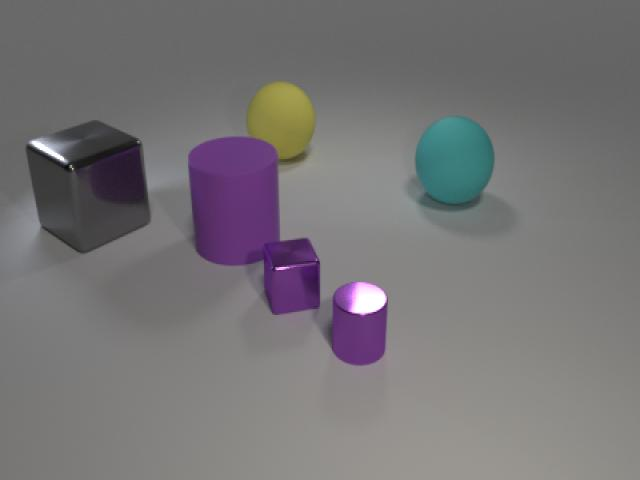cylinder: (184, 132, 286, 271), (327, 276, 394, 370)
round ball: (406, 108, 498, 212), (241, 75, 319, 166)
